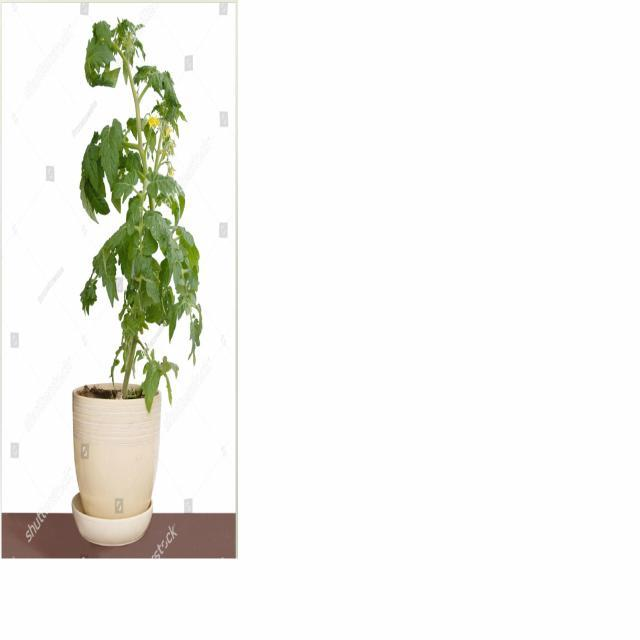tomato: (77, 19, 203, 415)
